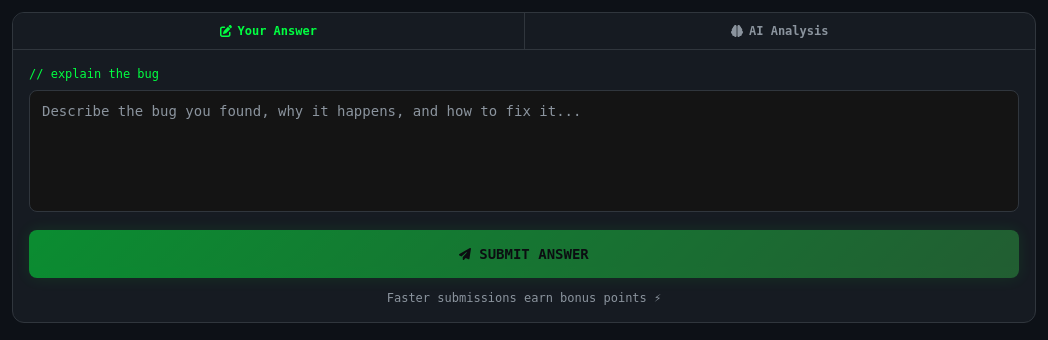
Test: AnswerPanel › submit flow › should enable submit button when explanation is entered
This screenshot has width=1048, height=340.
Type "There is an off-by-one error in the loop." into the text box with placeholder "Describe the bug you found" at (524, 151), box x1=29 y1=90 x2=1019 y2=212
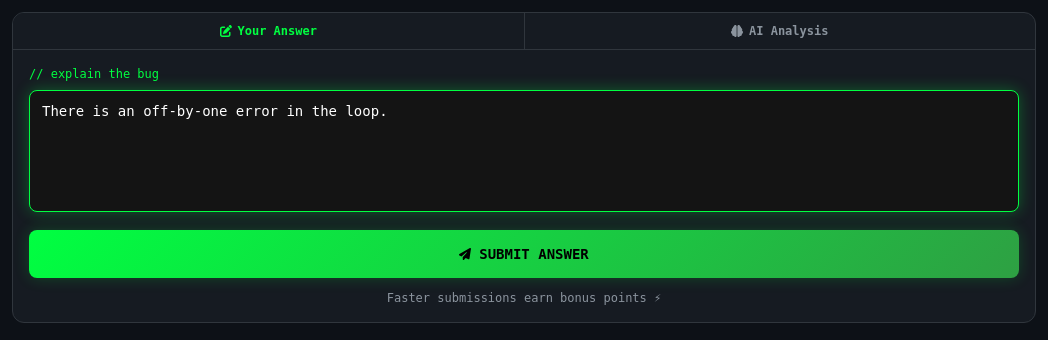
Expected: the button "SUBMIT ANSWER" is enabled, x1=29 y1=230 x2=1019 y2=278
